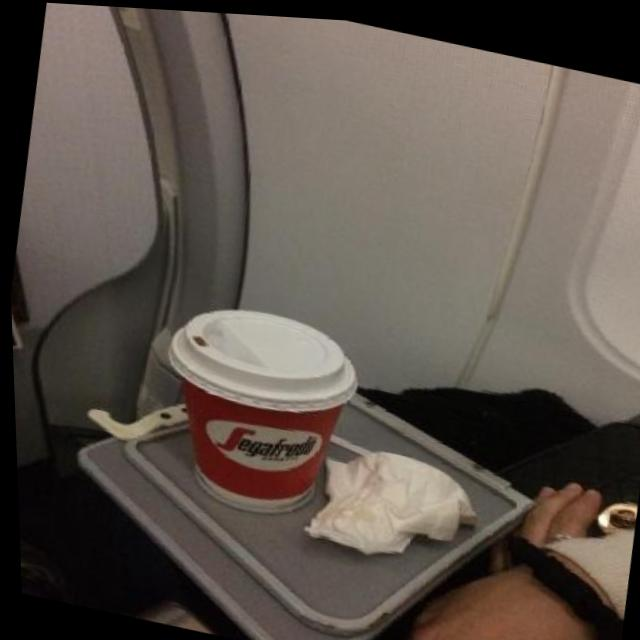cardboard: (144, 291, 373, 530)
paper: (297, 434, 485, 581)
